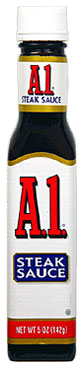grozi_112: (7, 7, 76, 362)
